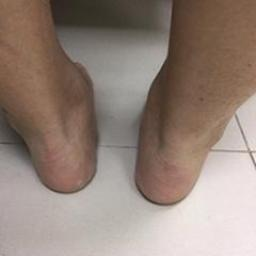Back View -Both Feet-: (3, 32, 253, 213)
